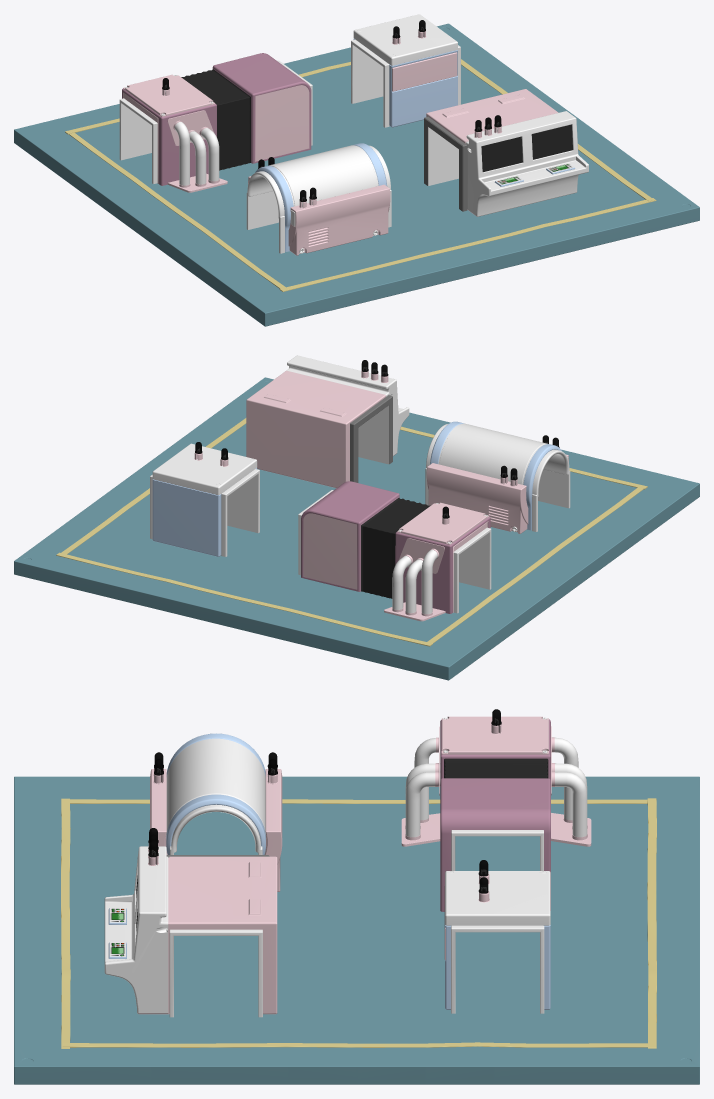
The model's file is pica_pica_-_machines.glb.
3 renders of one model, top to bottom at view 1: azimuth 30°, elevation 25°; view 2: azimuth 150°, elevation 25°; view 3: azimuth 270°, elevation 25°, orthographic. The views are drawn at different scales.
Visible parts, largest first — view 1: Mesh6_Plastic_Blue_0, Body (×2), Base, Case, Frame_Right, Interior (×2), Panel_01 (×2), Trim_01, Top_Panel_01, Inlet_Trim_01, pCube91, pCube92 (+5 smaller); view 2: Mesh6_Plastic_Blue_0, Body (×2), Base, Case, Frame_Left, Interior (×2), Trim_01, Top_Panel_01, Inlet_Trim_01, Decal_Floor_Caution_Line, pCube92, Inlet (+5 smaller); view 3: Mesh6_Plastic_Blue_0, Body (×2), Base, Case, Top_Panel_01, pCube93, Interior (×2), Decal_Floor_Caution_Line, pCube91, Trim_02, Frame_Left, pCube92 (+8 smaller).
Part boxes in pixels (bbox=[...]): Mesh6_Plastic_Blue_0: bbox=[14, 23, 699, 326]; Body (×2): bbox=[353, 14, 588, 216]; Base: bbox=[122, 53, 311, 185]; Case: bbox=[255, 143, 387, 251]; Frame_Right: bbox=[288, 184, 390, 255]; Interior (×2): bbox=[246, 127, 458, 253]; Panel_01 (×2): bbox=[167, 52, 457, 145]; Trim_01: bbox=[351, 39, 389, 127]; Top_Panel_01: bbox=[123, 74, 215, 116]; Inlet_Trim_01: bbox=[119, 98, 157, 183]; pCube91: bbox=[279, 198, 656, 291]; pCube92: bbox=[69, 132, 288, 290]; Mesh6_Plastic_Blue_0: bbox=[14, 377, 699, 680]; Body (×2): bbox=[152, 355, 409, 556]; Base: bbox=[301, 481, 490, 613]; Case: bbox=[430, 421, 561, 530]; Frame_Left: bbox=[426, 463, 528, 533]; Interior (×2): bbox=[358, 405, 570, 531]; Trim_01: bbox=[221, 469, 259, 556]; Top_Panel_01: bbox=[397, 502, 489, 544]; Inlet_Trim_01: bbox=[453, 527, 491, 613]; Decal_Floor_Caution_Line: bbox=[56, 552, 432, 646]; pCube92: bbox=[427, 485, 645, 643]; Inlet: bbox=[350, 395, 392, 482]; Mesh6_Plastic_Blue_0: bbox=[14, 776, 699, 1084]; Body (×2): bbox=[104, 846, 550, 1014]; Base: bbox=[440, 719, 550, 911]; Case: bbox=[166, 733, 265, 854]; Top_Panel_01: bbox=[441, 716, 548, 754]; pCube93: bbox=[62, 1042, 647, 1047]; Interior (×2): bbox=[169, 804, 262, 1017]; Decal_Floor_Caution_Line: bbox=[647, 798, 656, 1048]; pCube91: bbox=[61, 798, 70, 1048]; Trim_02: bbox=[451, 925, 544, 1013]; Frame_Left: bbox=[265, 769, 282, 891]; pCube92: bbox=[62, 799, 647, 803].
Size of the model in its own units: 0.4998 by 0.1151 by 0.4998.
Materials: 12 (1 with a texture image).
